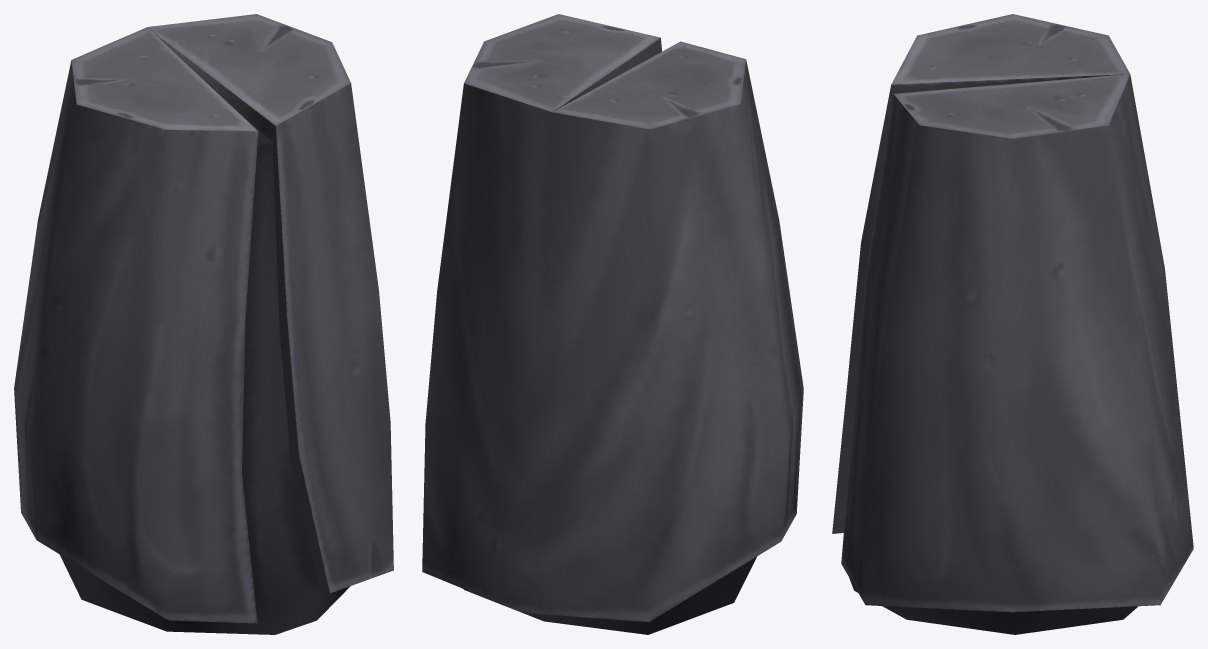
File: Statue_broken.FBX
The picture shows the model from 3 angles, left to right: view 1: azimuth 30°, elevation 25°; view 2: azimuth 150°, elevation 25°; view 3: azimuth 270°, elevation 25°; orthographic projection.
Parts seen in each view (by area): view 1: Object067; view 2: Object067; view 3: Object067.
Boxes of the visible parts, x1=… form: Object067: x1=14, y1=14, x2=393, y2=634; Object067: x1=422, y1=14, x2=803, y2=634; Object067: x1=832, y1=14, x2=1193, y2=634.
Bounding box in the file's own units: 111 × 155 × 102.
Materials: 1 (1 with a texture image).
